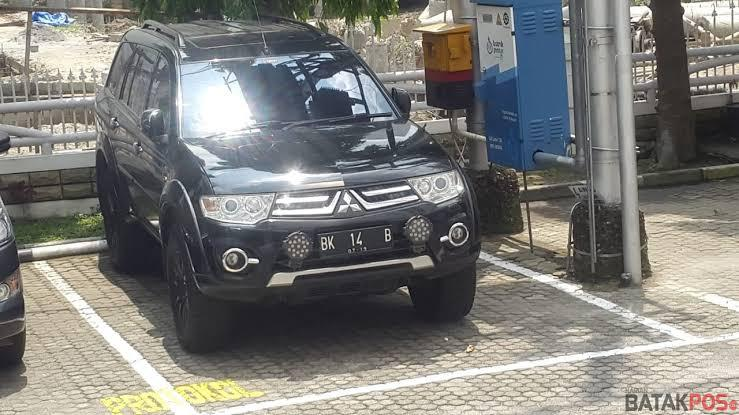plate: (317, 220, 400, 261)
